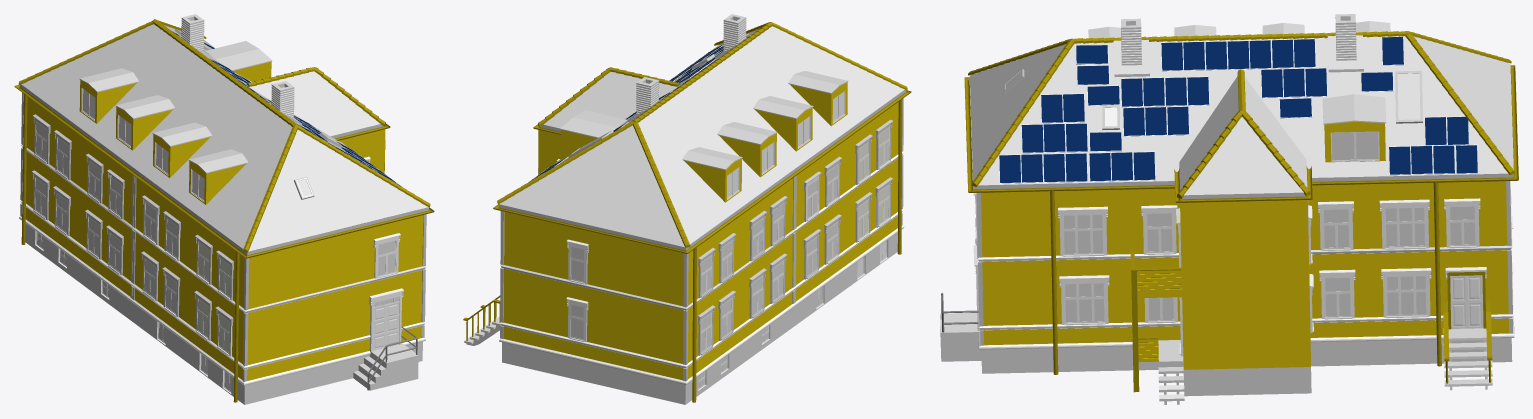
The model's file is house_panel_2_0100.glb.
3 renders of one model, left to right at view 1: azimuth 30°, elevation 25°; view 2: azimuth 150°, elevation 25°; view 3: azimuth 270°, elevation 25°, orthographic. The views are drawn at different scales.
Parts seen in each view (by area): view 1: SketchUp.874, SketchUp.871, SketchUp.865, SketchUp.002, SketchUp.511, SketchUp.484, SketchUp.001, SketchUp.872, SketchUp.015, SketchUp.057, SketchUp.052, SketchUp.734 (+19 smaller); view 2: SketchUp.874, SketchUp.871, SketchUp.002, SketchUp.865, SketchUp.484, SketchUp.511, SketchUp.001, SketchUp.872, SketchUp.057, SketchUp.052, SketchUp.734, SketchUp.522 (+14 smaller); view 3: SketchUp.874, SketchUp.871, SketchUp.868, SketchUp.865, SketchUp.002, SketchUp, SketchUp.511, SketchUp.872, SketchUp.734, SketchUp.057, SketchUp.484, SketchUp.019 (+72 smaller).
Part boxes in pixels (bbox=[...]): SketchUp.874: bbox=[25, 97, 423, 380]; SketchUp.871: bbox=[21, 24, 428, 251]; SketchUp.865: bbox=[249, 71, 380, 136]; SketchUp.002: bbox=[25, 224, 422, 404]; SketchUp.511: bbox=[14, 40, 434, 258]; SketchUp.484: bbox=[19, 216, 425, 385]; SketchUp.001: bbox=[109, 286, 199, 370]; SketchUp.872: bbox=[20, 84, 428, 255]; SketchUp.015: bbox=[353, 351, 418, 390]; SketchUp.057: bbox=[20, 200, 425, 369]; SketchUp.052: bbox=[21, 144, 426, 313]; SketchUp.734: bbox=[205, 41, 272, 70]; SketchUp.874: bbox=[503, 102, 898, 380]; SketchUp.871: bbox=[499, 26, 904, 247]; SketchUp.002: bbox=[502, 232, 897, 404]; SketchUp.865: bbox=[544, 72, 677, 128]; SketchUp.484: bbox=[499, 225, 904, 384]; SketchUp.511: bbox=[493, 48, 911, 253]; SketchUp.001: bbox=[770, 262, 857, 343]; SketchUp.872: bbox=[498, 89, 905, 250]; SketchUp.057: bbox=[499, 209, 903, 368]; SketchUp.052: bbox=[500, 153, 902, 310]; SketchUp.734: bbox=[560, 110, 626, 138]; SketchUp.522: bbox=[790, 82, 847, 126]; SketchUp.874: bbox=[981, 109, 1508, 345]; SketchUp.871: bbox=[969, 36, 1513, 185]; SketchUp.868: bbox=[1180, 200, 1310, 369]; SketchUp.865: bbox=[1179, 76, 1307, 195]; SketchUp.002: bbox=[981, 338, 1512, 373]; SketchUp: bbox=[1183, 366, 1311, 396]; SketchUp.511: bbox=[964, 65, 1518, 192]; SketchUp.872: bbox=[969, 77, 1513, 189]; SketchUp.734: bbox=[1322, 94, 1386, 124]; SketchUp.057: bbox=[975, 218, 1513, 330]; SketchUp.484: bbox=[975, 240, 1514, 349]; SketchUp.019: bbox=[1137, 270, 1181, 298].
Size of the model in its own units: 13.74 by 13.47 by 22.92.
